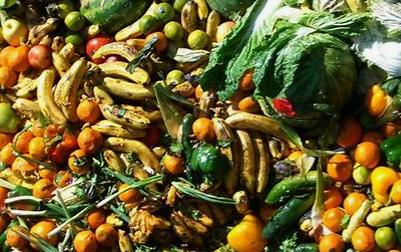organic: (197, 1, 282, 97), (309, 1, 401, 85), (226, 109, 300, 146), (260, 192, 315, 241), (274, 119, 343, 158), (79, 0, 150, 33), (59, 58, 88, 121), (127, 206, 170, 243), (227, 217, 267, 252), (96, 64, 150, 87), (222, 128, 240, 194), (202, 1, 259, 21), (370, 166, 399, 201), (26, 17, 59, 46), (176, 209, 211, 236), (173, 49, 210, 73), (55, 181, 90, 206), (354, 139, 382, 170), (379, 129, 401, 168), (30, 220, 58, 249), (366, 204, 401, 227), (86, 36, 113, 63), (2, 19, 28, 46), (13, 75, 43, 98), (0, 102, 22, 133), (12, 98, 43, 120), (211, 117, 234, 146), (125, 103, 162, 121), (77, 128, 103, 153), (351, 226, 376, 251), (7, 45, 30, 72), (11, 156, 38, 179), (28, 45, 52, 70), (52, 50, 73, 78), (77, 99, 101, 123), (343, 192, 367, 215), (6, 226, 29, 249), (73, 230, 97, 252), (68, 150, 90, 174), (374, 226, 396, 250), (103, 148, 125, 172), (192, 118, 214, 141), (92, 85, 116, 106), (95, 224, 117, 246), (163, 153, 185, 175), (32, 178, 55, 199), (24, 3, 45, 26), (118, 183, 141, 203), (323, 186, 343, 209), (187, 30, 209, 50), (273, 160, 295, 180), (64, 11, 85, 31), (28, 137, 47, 159), (216, 21, 235, 43), (117, 229, 135, 252), (199, 90, 217, 113), (9, 198, 36, 213), (144, 125, 162, 147), (87, 210, 106, 230), (55, 0, 75, 19), (0, 67, 18, 88), (7, 185, 34, 199), (54, 170, 74, 188), (0, 143, 17, 164), (344, 0, 368, 14), (259, 204, 277, 222), (166, 69, 186, 85), (43, 123, 60, 141), (382, 121, 400, 137), (31, 119, 47, 137), (38, 167, 56, 181), (241, 214, 262, 226), (0, 186, 10, 211), (166, 184, 177, 206), (65, 34, 84, 46), (106, 214, 121, 227), (173, 0, 189, 12), (0, 213, 10, 232), (177, 123, 186, 144), (87, 24, 101, 37), (195, 84, 204, 100)
